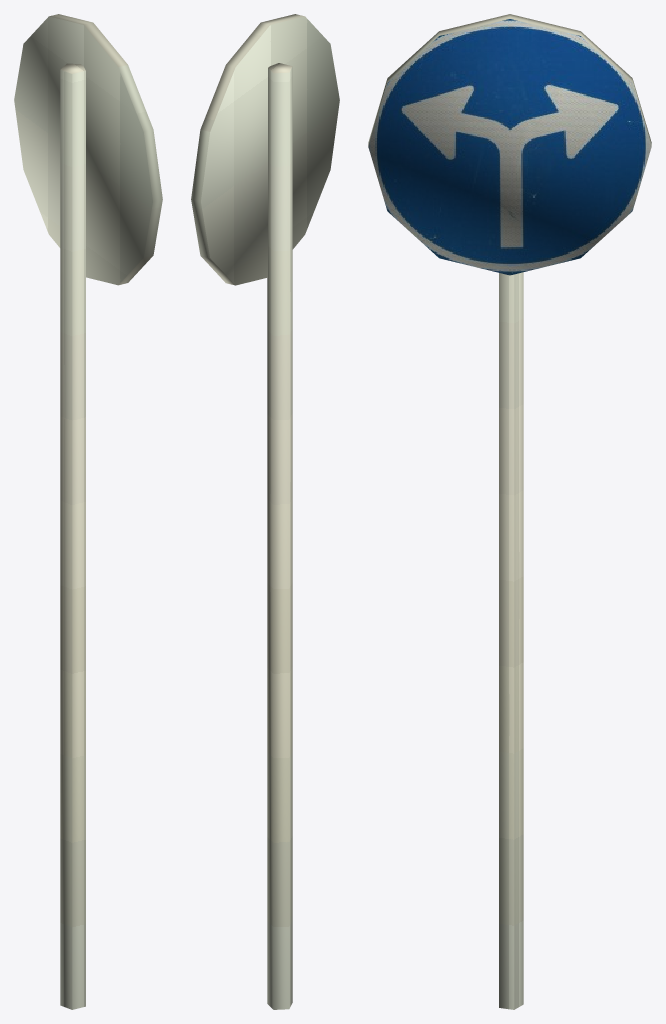
Rendered from cartello_direz_blu.glb.
3 views of the same model, side by side, from view 1: azimuth 30°, elevation 25°; view 2: azimuth 150°, elevation 25°; view 3: azimuth 270°, elevation 25° (orthographic).
Visible parts, largest first — view 1: Sign.013; view 2: Sign.013; view 3: Sign.013.
Part boxes in pixels (x1,y1,x2,y2): Sign.013: (14, 14, 162, 1009); Sign.013: (191, 14, 339, 1009); Sign.013: (368, 14, 651, 1009).
Size of the model in its own units: 0.0484 by 1.47 by 0.3779.
1 material, 1 textured.
